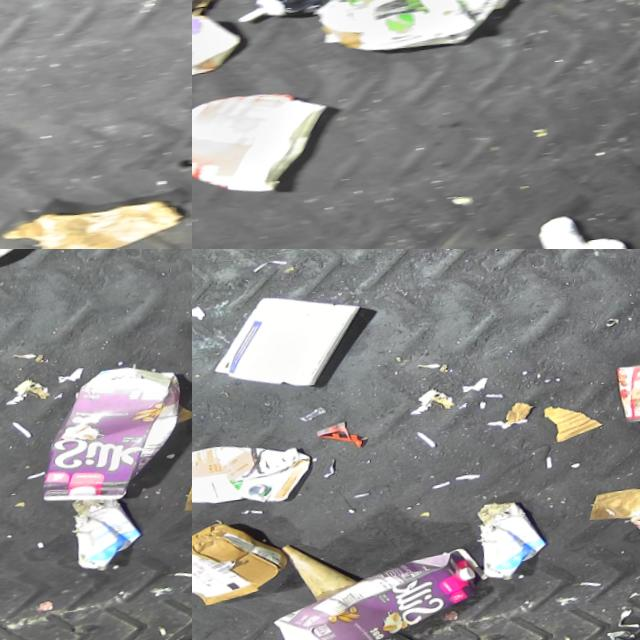can: (613, 358, 640, 431)
non_white_jug: (34, 362, 192, 513), (270, 547, 503, 640), (192, 435, 317, 524)
